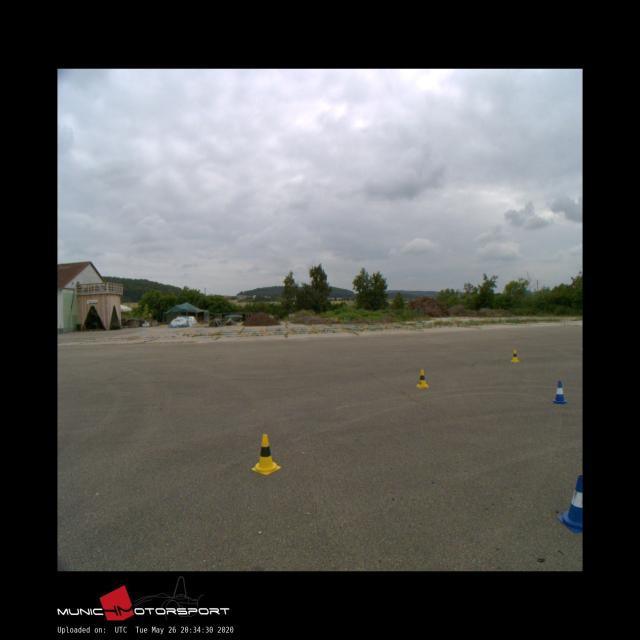blue_cone: (557, 475, 582, 534), (552, 381, 567, 403)
yellow_cone: (251, 434, 280, 474), (416, 369, 428, 388), (510, 350, 520, 362)
